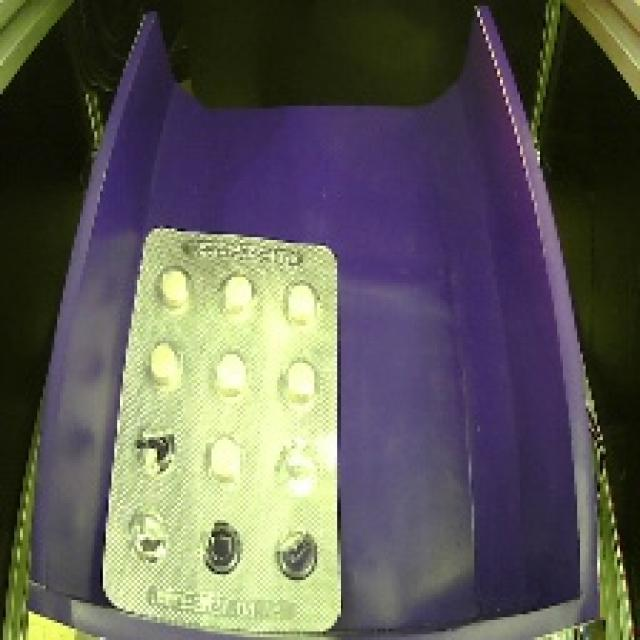med_plate: (83, 214, 354, 640)
